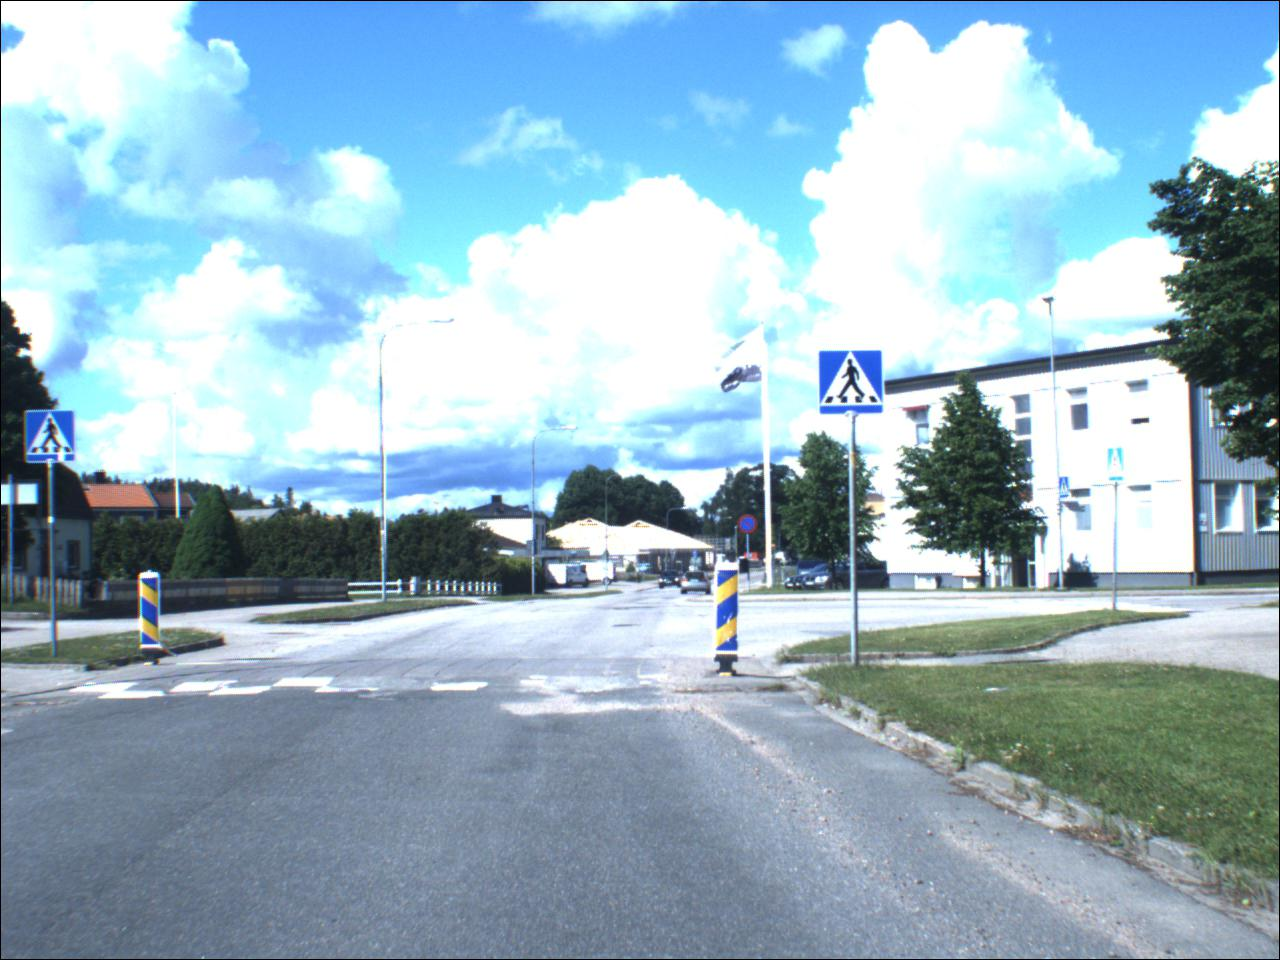NO_PARKING: (739, 514, 760, 535)
PEDESTRIAN_CROSSING: (820, 352, 884, 417), (25, 410, 78, 464), (1109, 450, 1127, 485), (1061, 479, 1072, 499)
